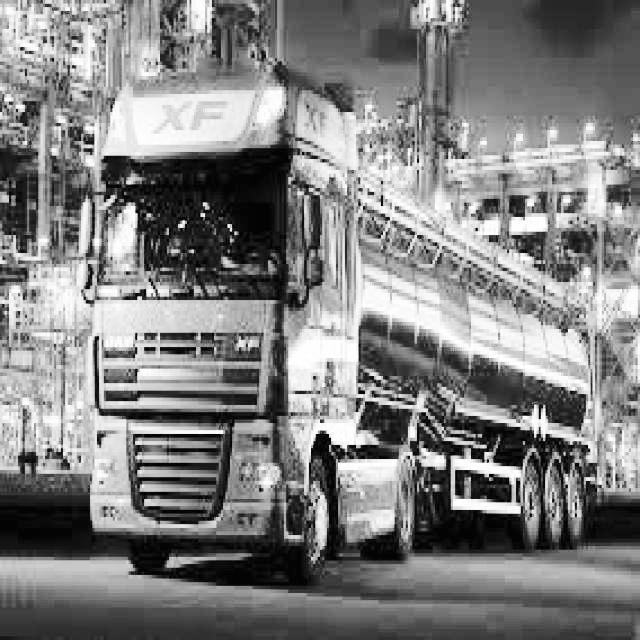Truck: (75, 51, 600, 583)
